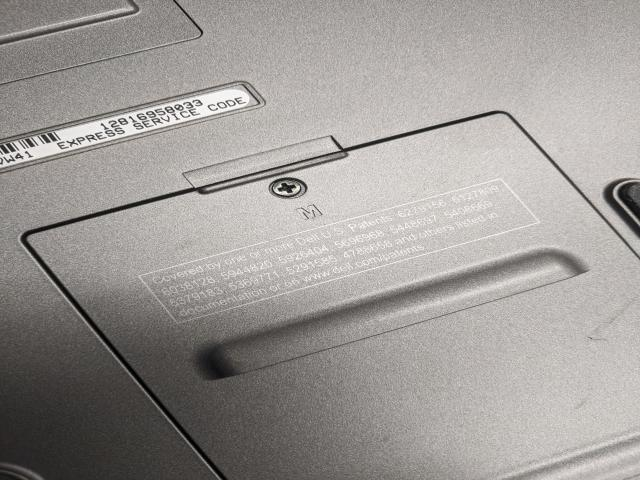CRS: (272, 179, 303, 196)
